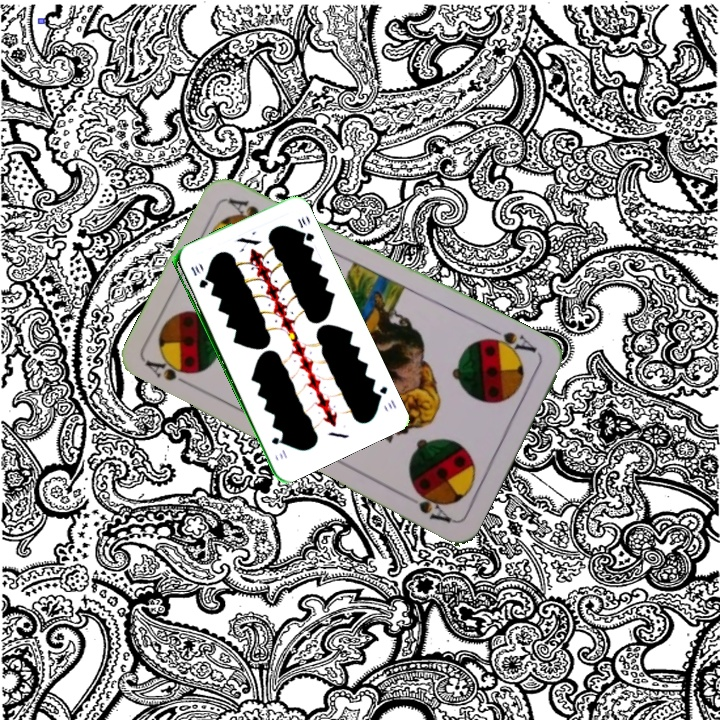G10: (371, 382, 399, 412), (187, 262, 209, 291)
SA: (481, 323, 540, 360), (142, 356, 198, 391)
